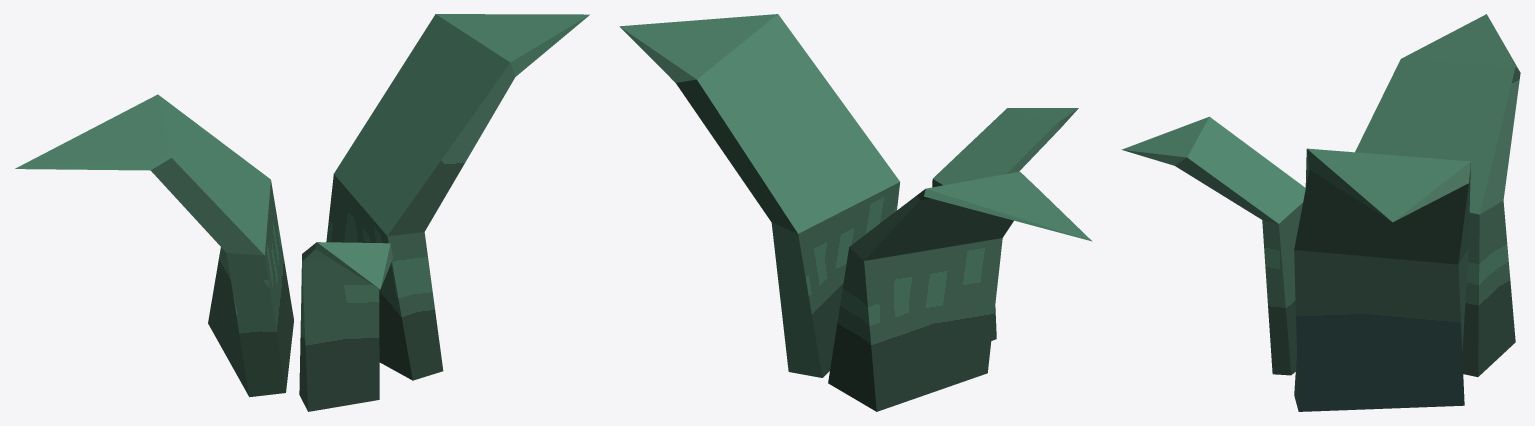
File: grass1.glb
The picture shows the model from 3 angles, left to right: view 1: azimuth 30°, elevation 25°; view 2: azimuth 150°, elevation 25°; view 3: azimuth 270°, elevation 25°; orthographic projection. The views are drawn at different scales.
Visible parts, largest first — view 1: Cube; view 2: Cube; view 3: Cube.
Part boxes in pixels (<box>): Cube: <box>15,14,589,411</box>; Cube: <box>619,14,1092,411</box>; Cube: <box>1121,14,1520,411</box>.
Bounding box in the file's own units: 23.02 × 12.16 × 14.45.
Materials: 1 (1 with a texture image).
